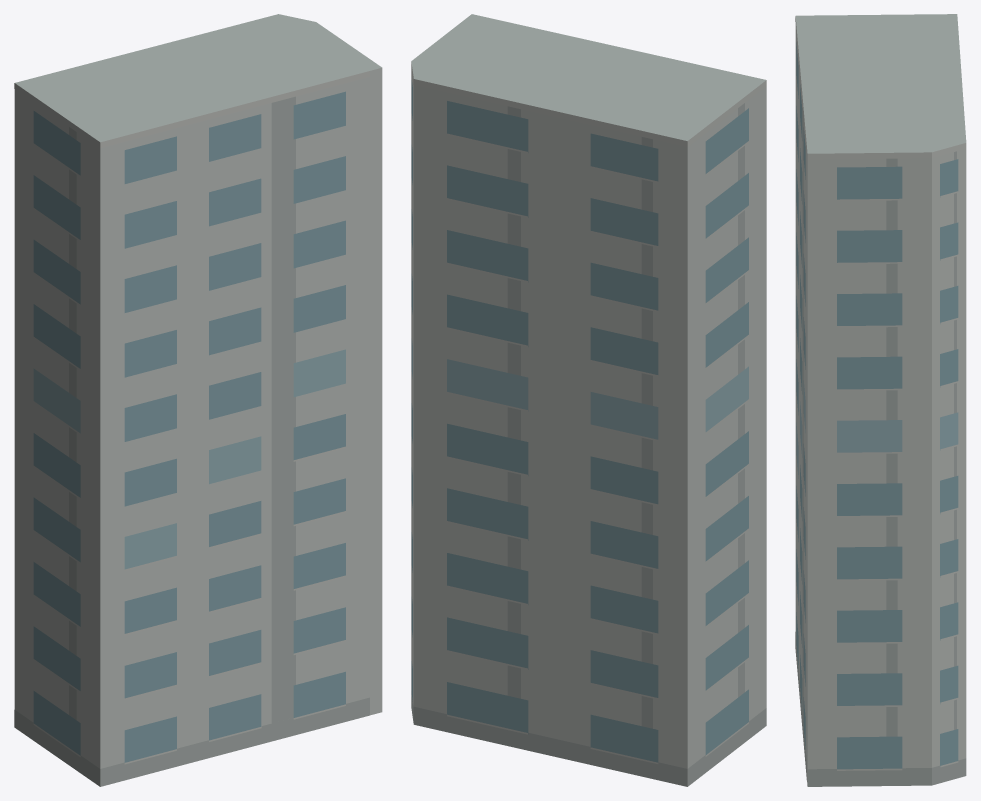
Rendered from survey-upis-32987643.glb.
The picture shows the model from 3 angles, left to right: view 1: azimuth 30°, elevation 25°; view 2: azimuth 150°, elevation 25°; view 3: azimuth 270°, elevation 25°; orthographic projection.
Visible parts, largest first — view 1: survey-upis-32987643.tmp; view 2: survey-upis-32987643.tmp; view 3: survey-upis-32987643.tmp.
Part boxes in pixels (left/top/right/bottom): survey-upis-32987643.tmp: left=14, top=14, right=382, bottom=786; survey-upis-32987643.tmp: left=411, top=14, right=766, bottom=786; survey-upis-32987643.tmp: left=795, top=14, right=966, bottom=786.
Size of the model in its own units: 12.41 by 26.2 by 6.42.
